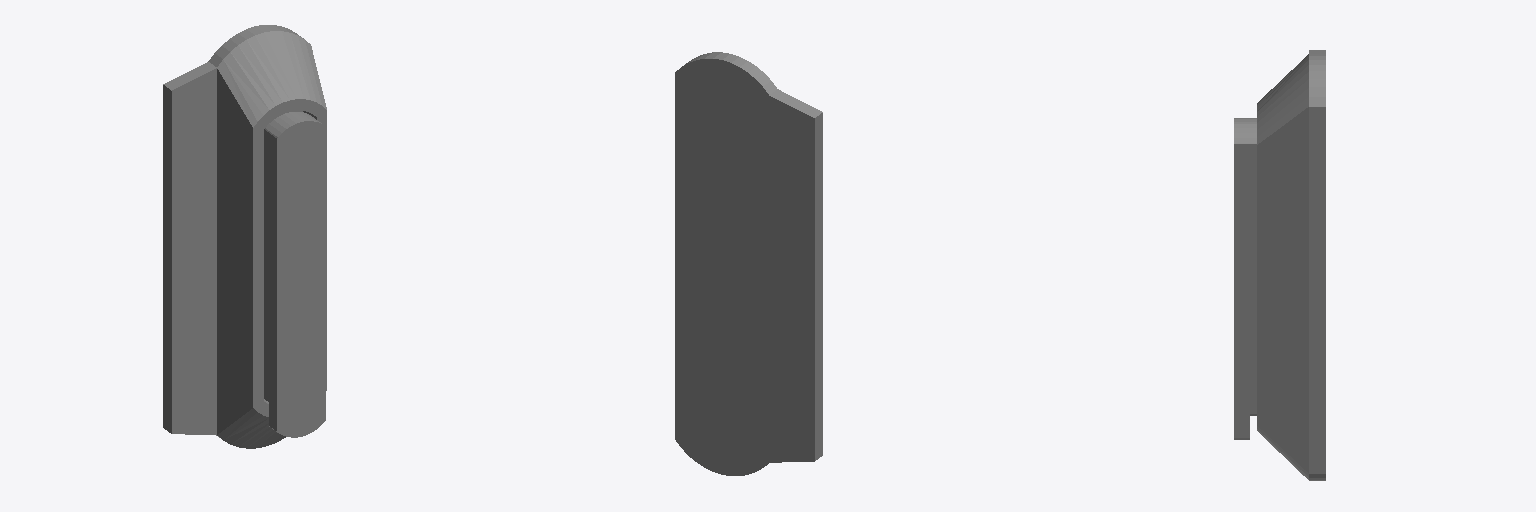
File: set8_PullF.obj
3 renders of one model, left to right at view 1: azimuth 30°, elevation 25°; view 2: azimuth 150°, elevation 25°; view 3: azimuth 270°, elevation 25°, orthographic.
Parts seen in each view (by area): view 1: set8_PullF; view 2: set8_PullF; view 3: set8_PullF.
Part boxes in pixels (x1,y1,x2,y2): set8_PullF: (163, 25, 326, 448); set8_PullF: (675, 52, 822, 475); set8_PullF: (1234, 50, 1325, 480).
Size of the model in its own units: 0.0403 by 0.1146 by 0.0232.